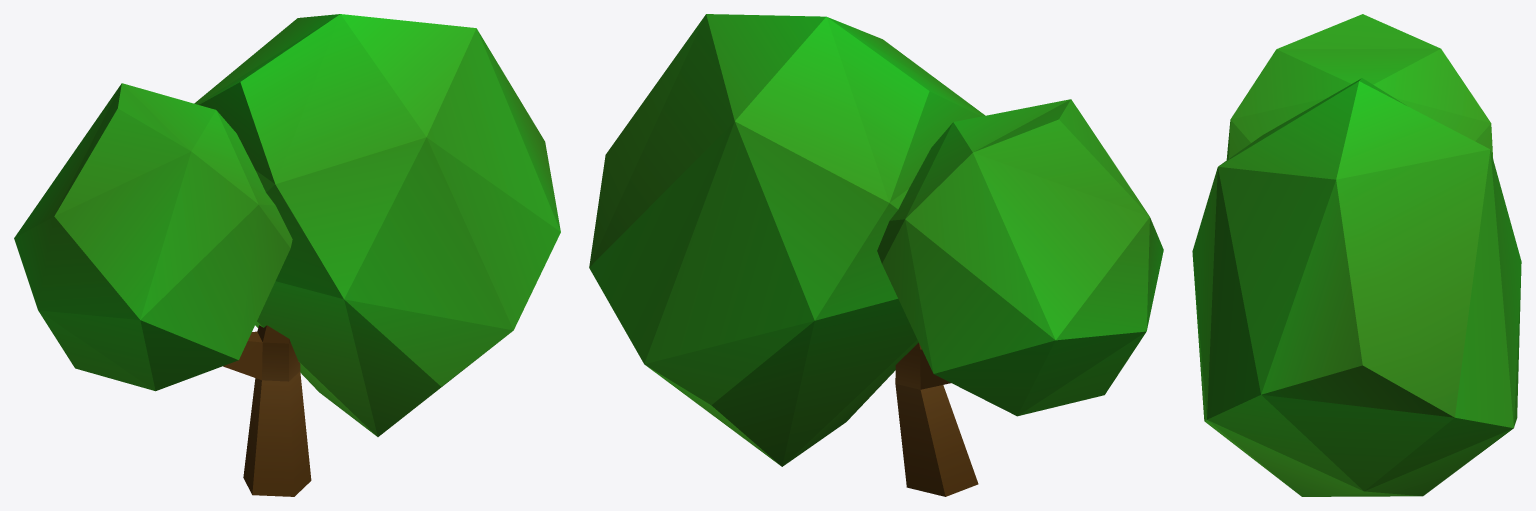
The model's file is BushWithTrunk.FBX.
3 views of the same model, side by side, from view 1: azimuth 30°, elevation 25°; view 2: azimuth 150°, elevation 25°; view 3: azimuth 270°, elevation 25° (orthographic). The views are drawn at different scales.
Visible parts, largest first — view 1: Cylinder010; view 2: Cylinder010; view 3: Cylinder010.
Part boxes in pixels (box(x1,y1,x2,y2)): Cylinder010: box(14, 14, 560, 496); Cylinder010: box(589, 14, 1163, 496); Cylinder010: box(1192, 14, 1521, 496).
Bounding box in the file's own units: 142 × 115 × 78.18.
